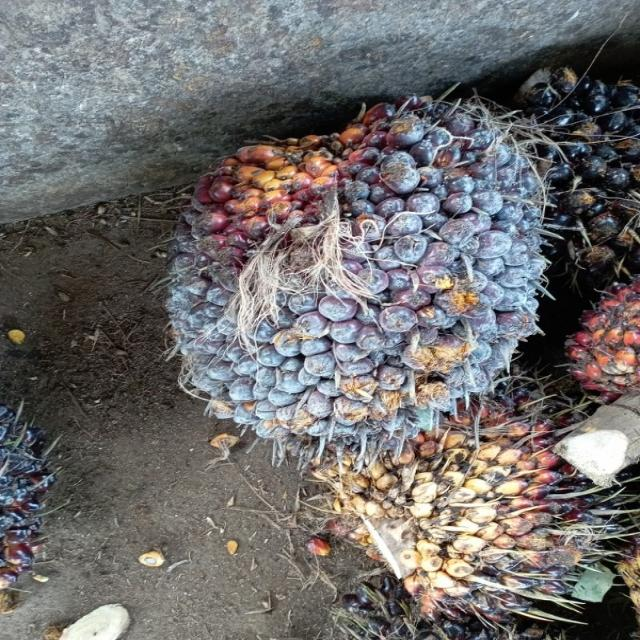fraksi 1: (136, 82, 570, 458)
